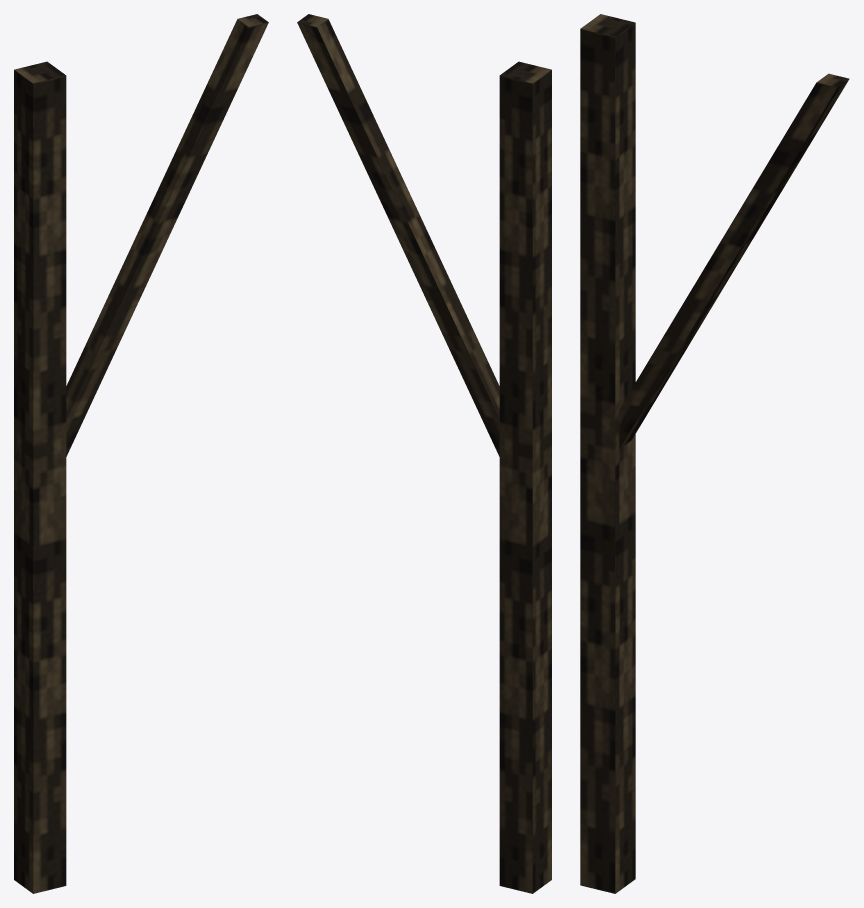
Rendered from ENV_F_DeadTree.fbx.
3 views of the same model, side by side, from view 1: azimuth 30°, elevation 25°; view 2: azimuth 150°, elevation 25°; view 3: azimuth 330°, elevation 25° (orthographic). The views are drawn at different scales.
Visible parts, largest first — view 1: PL_ENV_F_DeadTree; view 2: PL_ENV_F_DeadTree; view 3: PL_ENV_F_DeadTree.
Part boxes in pixels (box(x1,y1,x2,y2)): PL_ENV_F_DeadTree: box(14, 14, 268, 893); PL_ENV_F_DeadTree: box(297, 14, 551, 893); PL_ENV_F_DeadTree: box(580, 14, 849, 893).
Size of the model in its own units: 217 by 700 by 30.
Materials: 1 (1 with a texture image).
